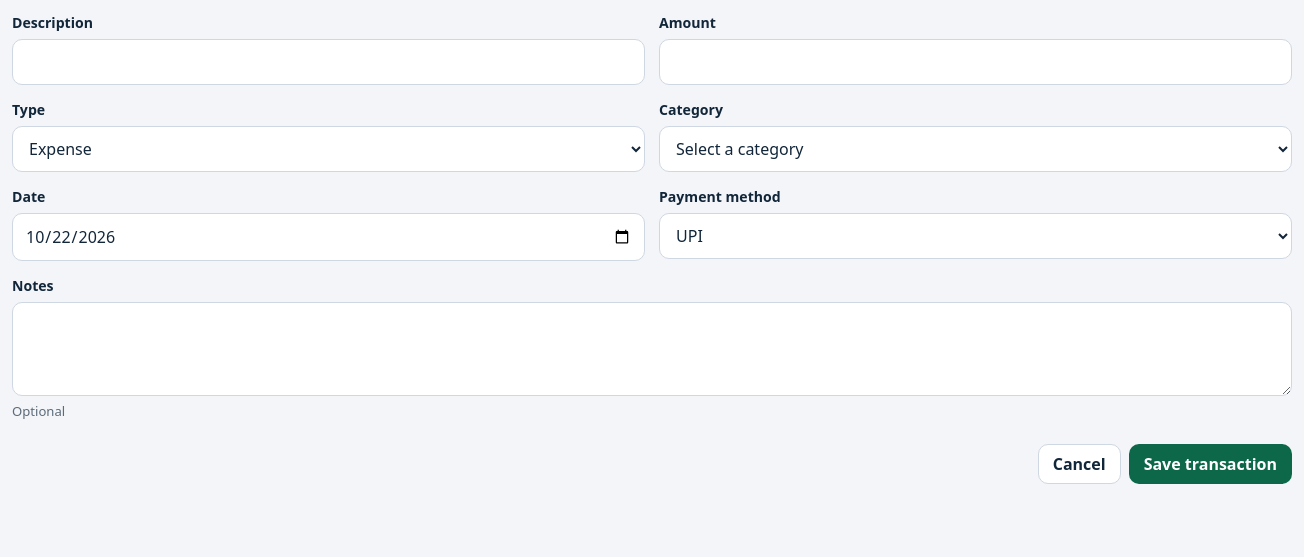
Scenario: TransactionForm › shows inline errors and does not drop what the user typed
Click the button "Save transaction".
click(1210, 464)  # box [1129, 444, 1292, 484]
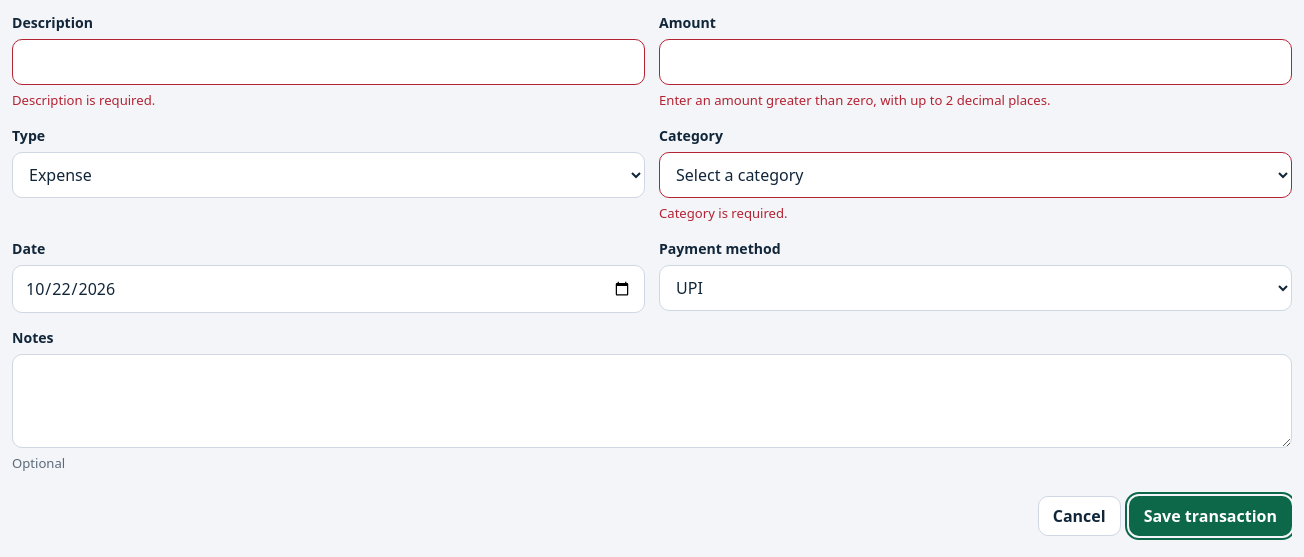
Expected: the text "Description is required." is shown, [12, 91, 155, 109]
Type "Coffee" into the field labelled "Description".
click(328, 62); type("Coffee")  # box [12, 39, 645, 85]
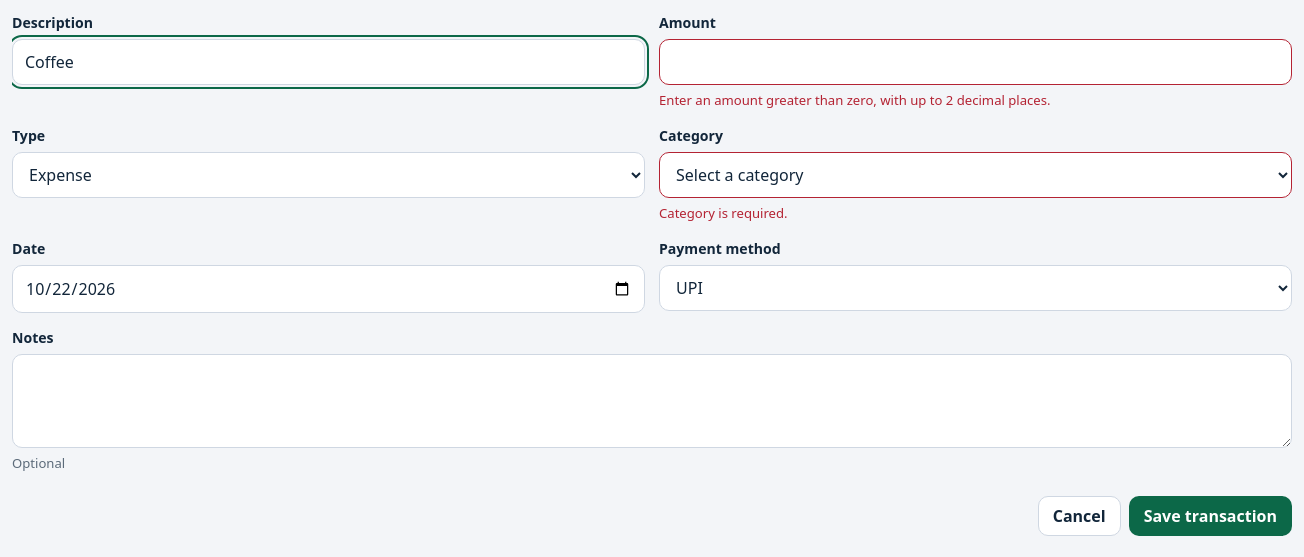
Type "0" into the field labelled "Amount".
click(976, 62); type("0")  # box [659, 39, 1292, 85]
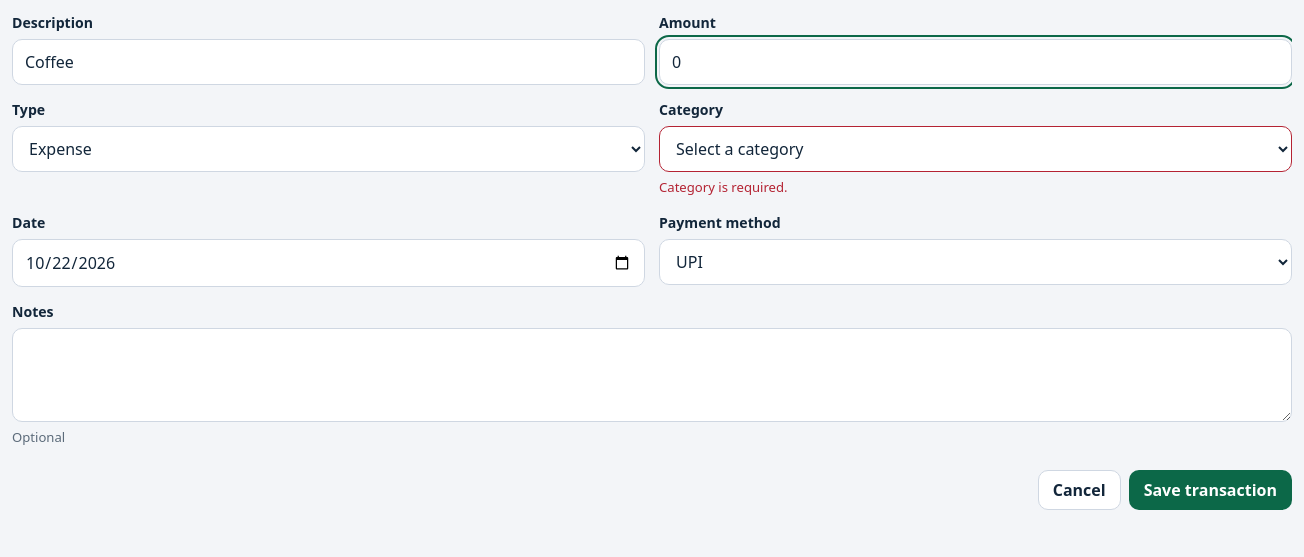
Click the button "Save transaction".
click(1210, 490)  # box [1129, 470, 1292, 510]
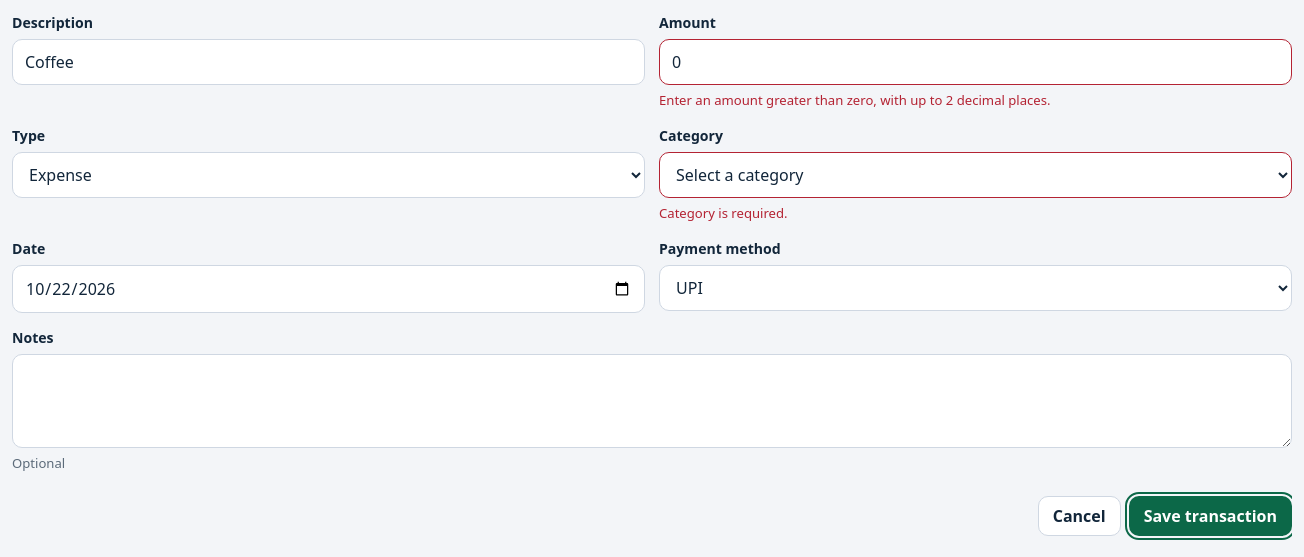
Expected: the text "Enter an amount greater than zero, with up to 2 decimal places." is shown, [659, 91, 1051, 109]
